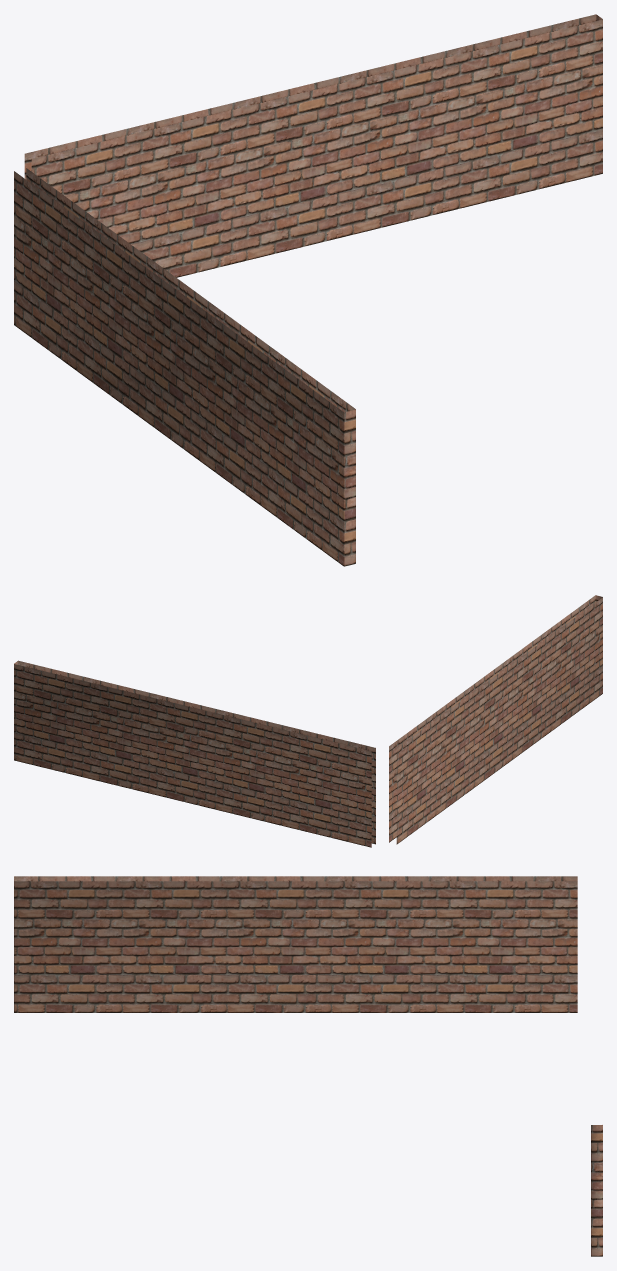
The model's file is wall.obj.
3 views of the same model, one above another, from view 1: azimuth 30°, elevation 25°; view 2: azimuth 150°, elevation 25°; view 3: azimuth 270°, elevation 25° (orthographic). The views are drawn at different scales.
Bounding box in the file's own units: 864 × 213 × 864.
1 material, 1 textured.
